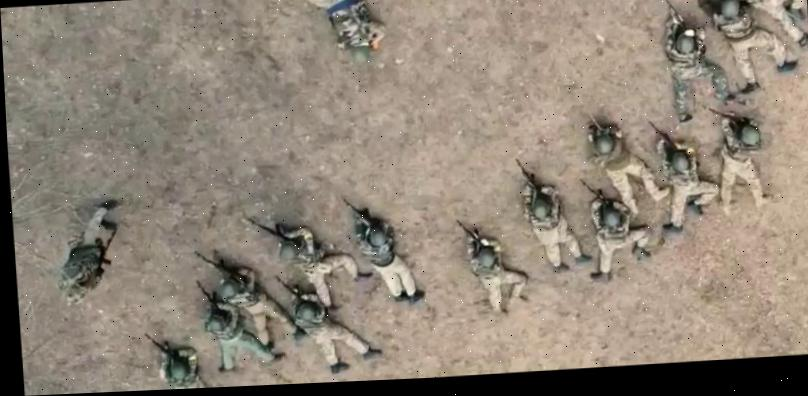person: (244, 209, 376, 318), (192, 244, 309, 355), (271, 267, 384, 379), (694, 0, 798, 97), (657, 0, 737, 125), (340, 193, 426, 309), (512, 152, 592, 276), (642, 114, 722, 235), (194, 272, 287, 375), (584, 116, 672, 217), (580, 172, 655, 284), (261, 0, 386, 67), (452, 214, 530, 320), (51, 195, 126, 305), (702, 102, 772, 212), (700, 0, 808, 57), (139, 326, 216, 391)
